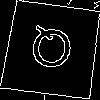Q: (26, 24, 76, 78)
